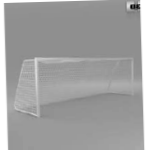goals: (12, 55, 138, 118)
